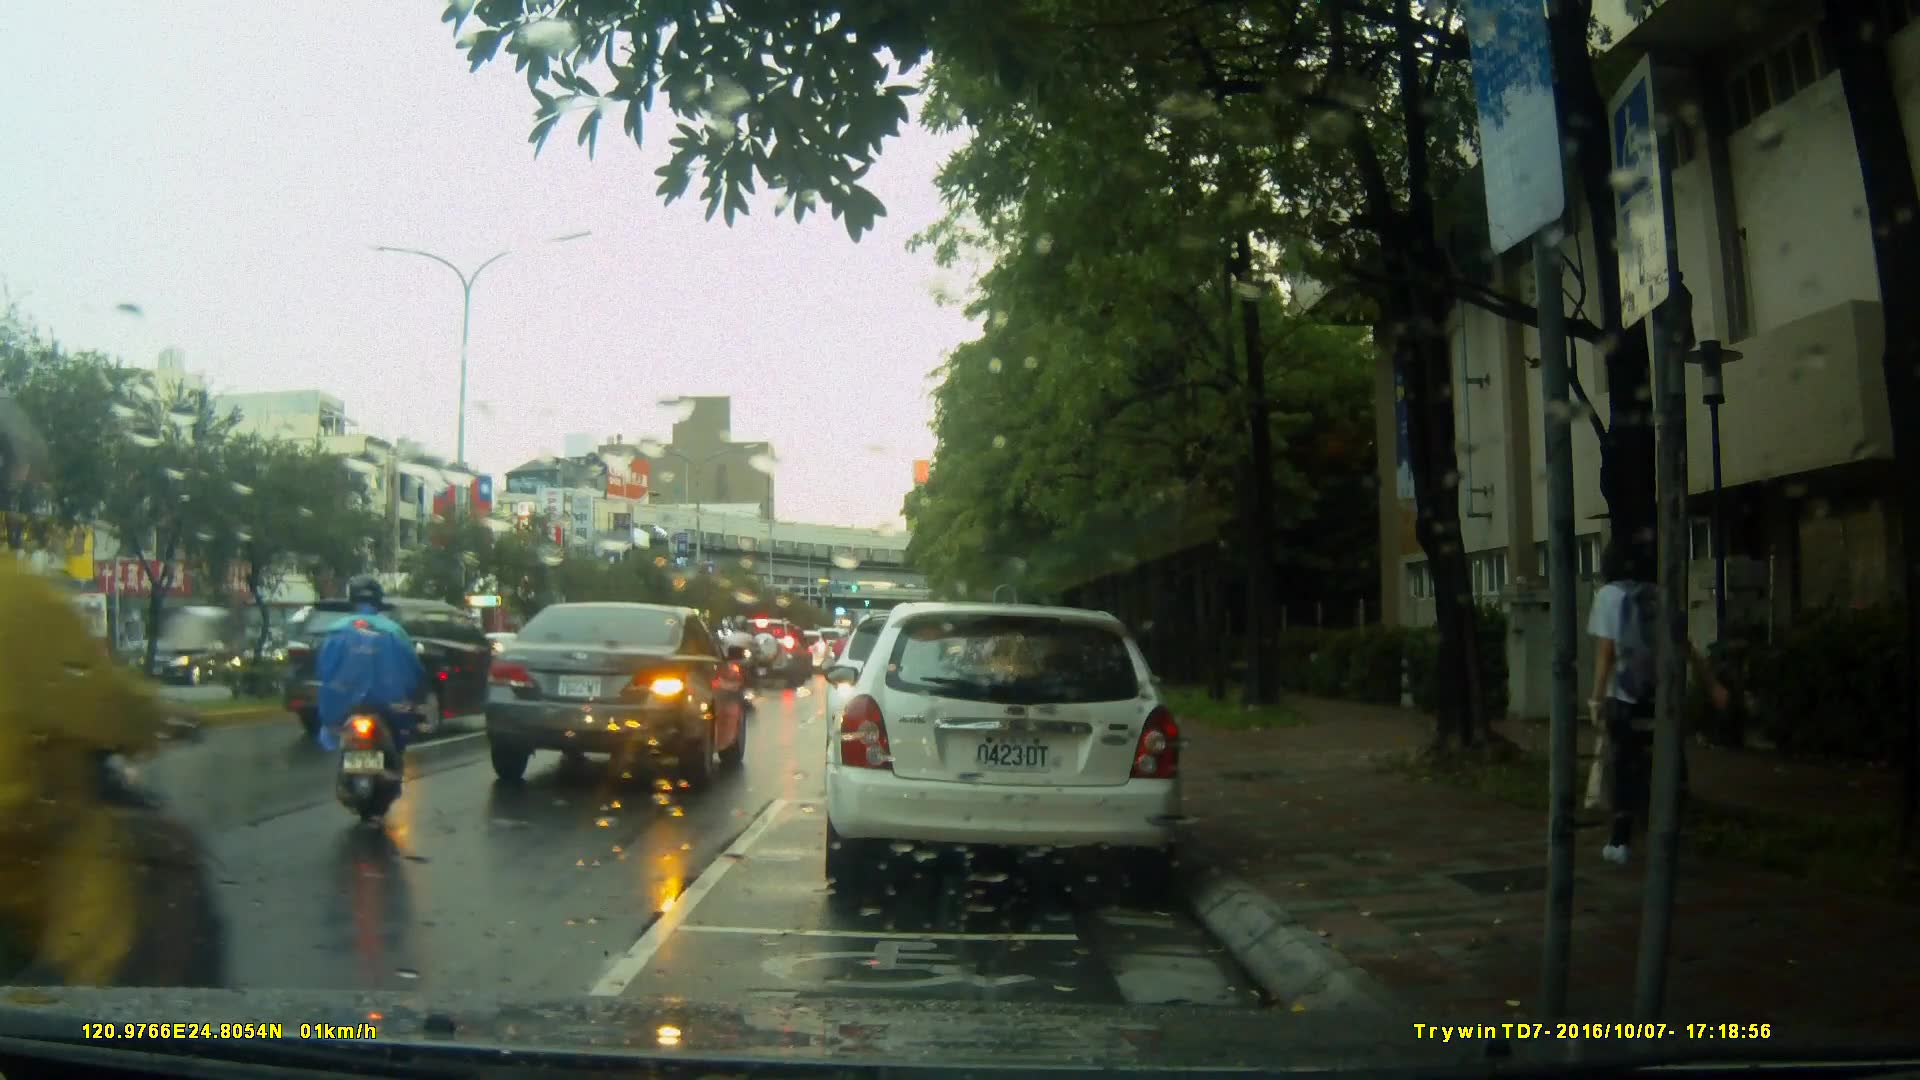pedestrian: (1555, 516, 1688, 875)
rider: (1, 423, 243, 1071), (326, 575, 429, 829), (725, 617, 761, 703)
vehicle: (820, 602, 1188, 898), (484, 600, 752, 790), (281, 595, 516, 743), (731, 618, 813, 690), (134, 634, 239, 689)
